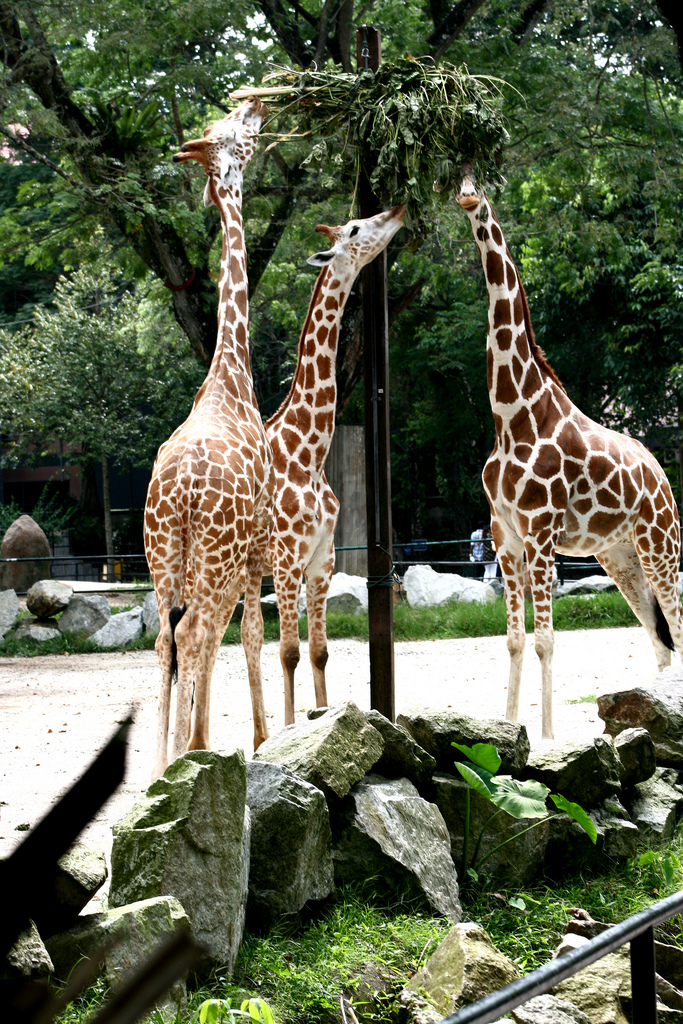giraffe: (434, 123, 673, 719), (253, 171, 442, 682), (159, 85, 284, 727)
